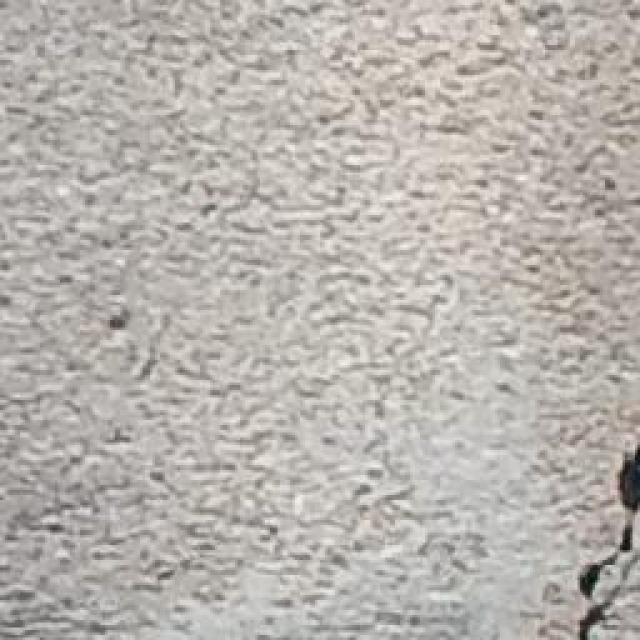concrete-crack: (562, 433, 639, 640)
